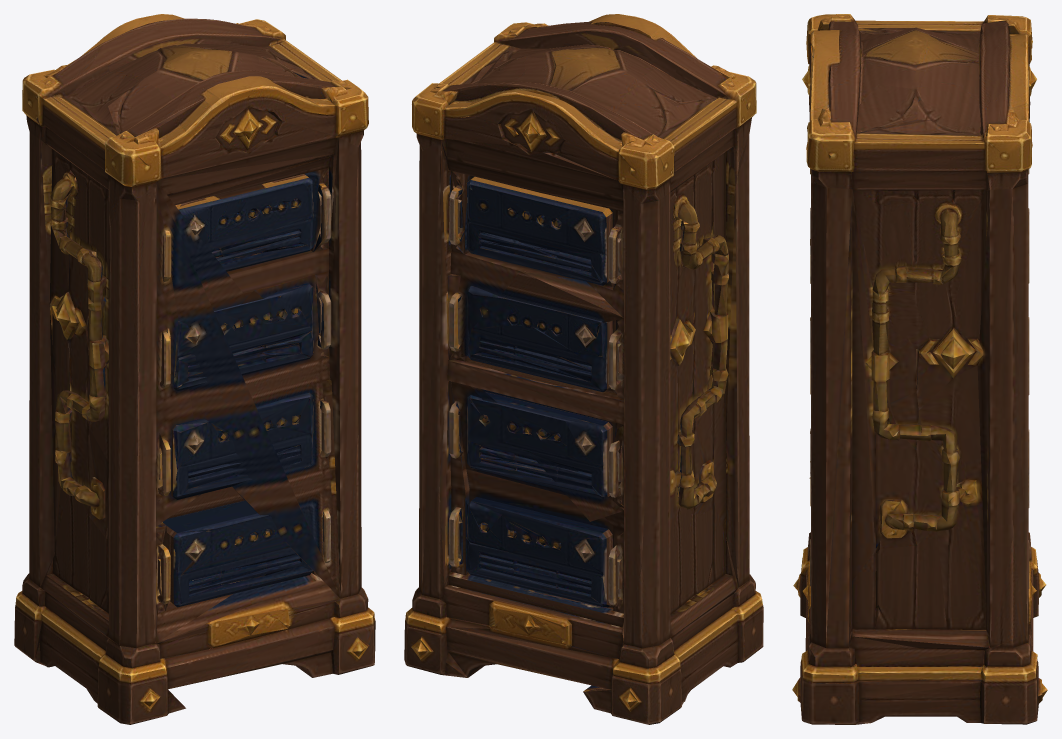
Rendered from server-rack.glb.
The picture shows the model from 3 angles, left to right: view 1: azimuth 30°, elevation 25°; view 2: azimuth 150°, elevation 25°; view 3: azimuth 270°, elevation 25°; orthographic projection. The views are drawn at different scales.
Parts seen in each view (by area): view 1: output_unwrapped; view 2: output_unwrapped; view 3: output_unwrapped.
Boxes of the visible parts, x1,y1,x2,y2 form: output_unwrapped: [14, 14, 375, 724]; output_unwrapped: [404, 14, 763, 724]; output_unwrapped: [792, 14, 1047, 724].
Bounding box in the file's own units: 0.854 × 1.9 × 0.7091.
1 material, 1 textured.
